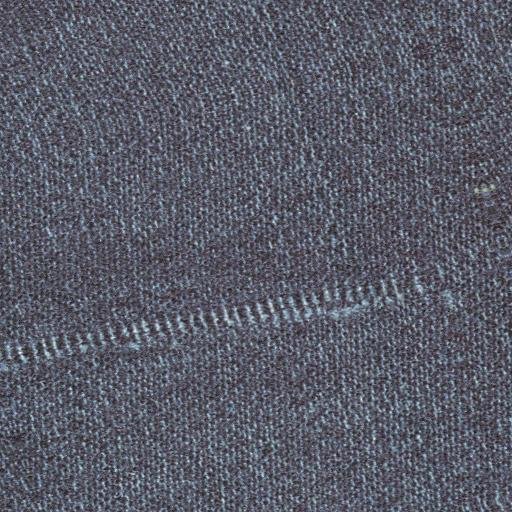slub: (1, 262, 451, 377)
